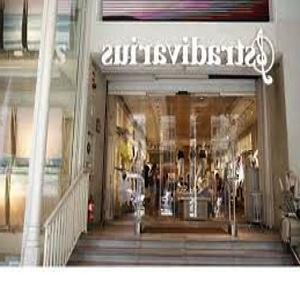stradivarius: (97, 27, 278, 81)
